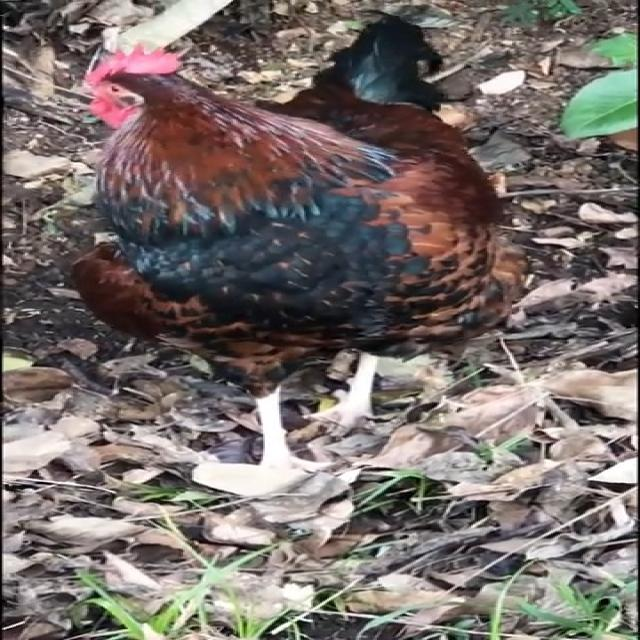self preening: (57, 0, 526, 483)
